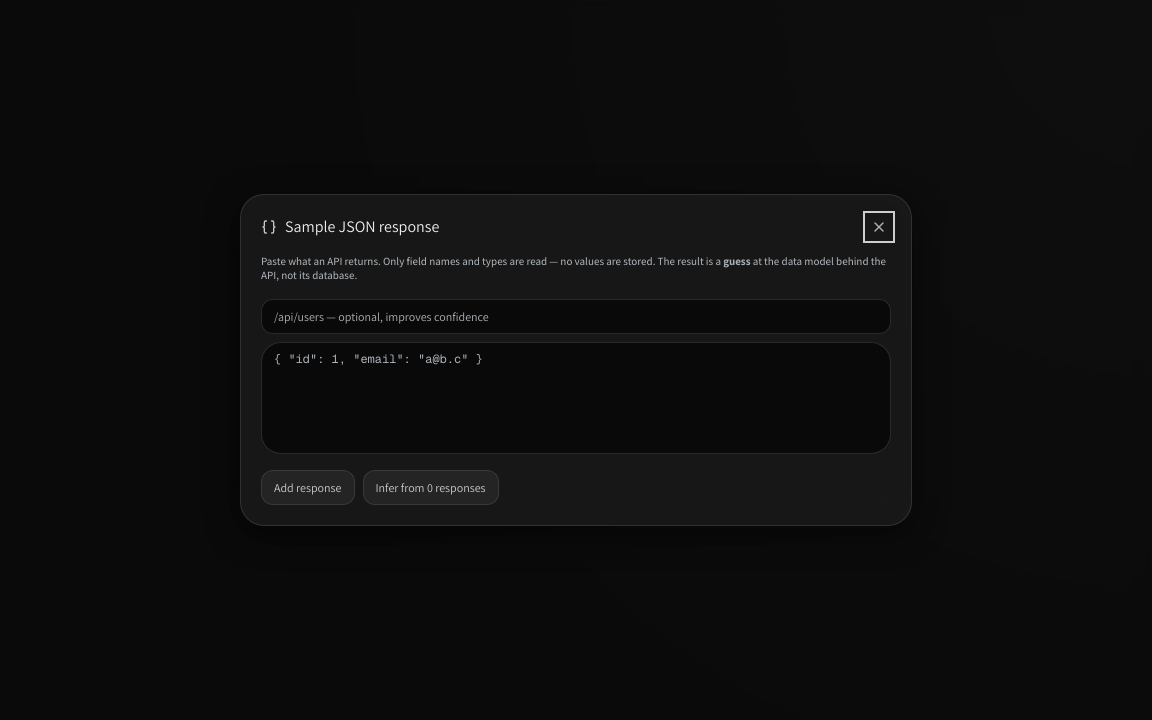
Scenario: JsonShapeModal › refuses text that is not JSON before sending anything
Step 1. Type "not json" into the text box named "JSON response" → (576, 398), box [261,342,891,454]
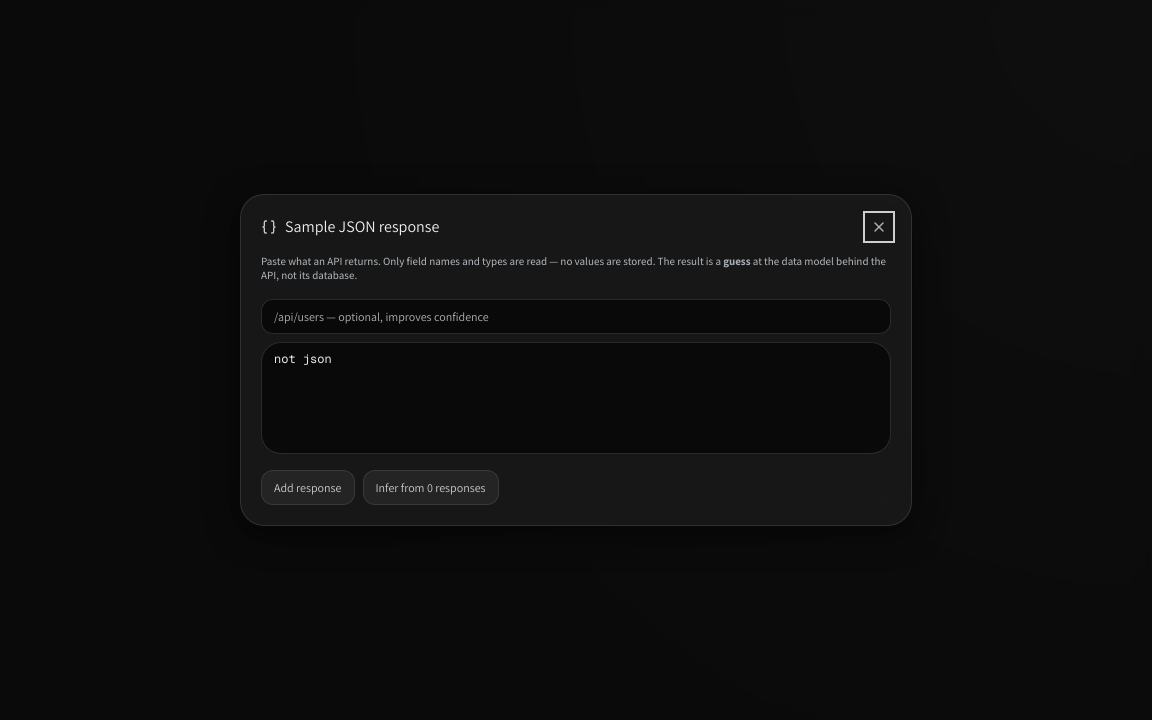
Step 2. Click the button "Add response" → (308, 488), box [261,470,354,505]
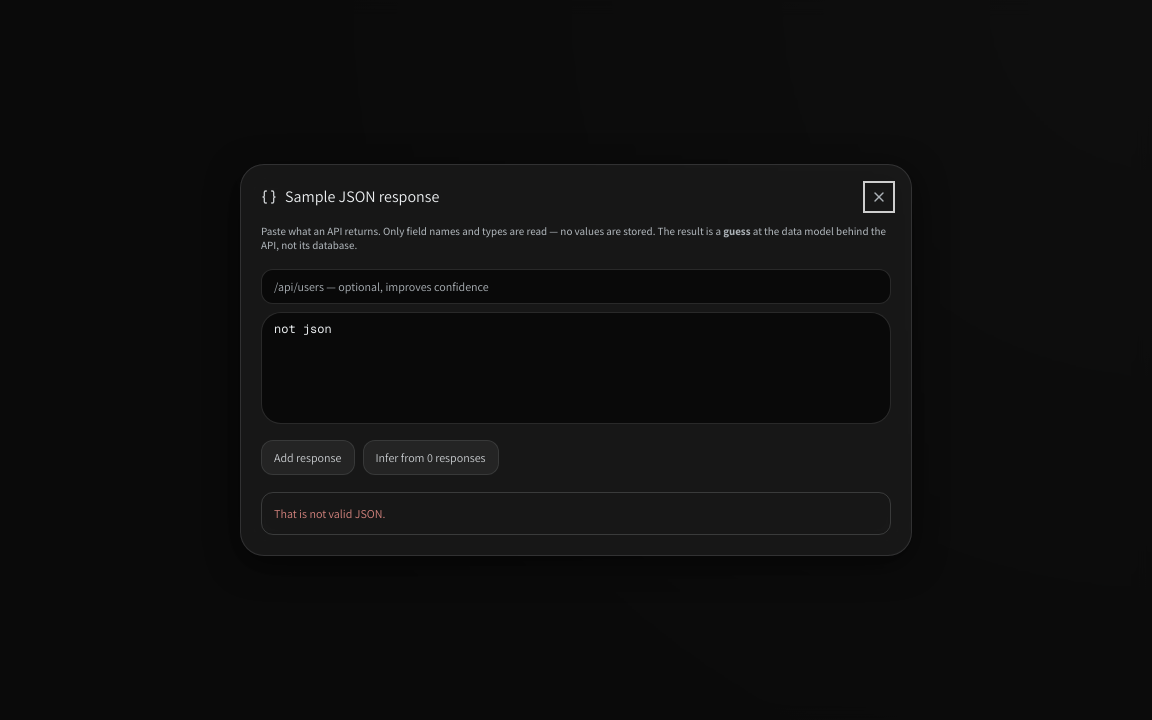
Expected: the text "That is not valid JSON." is shown, [261,492,891,535]
